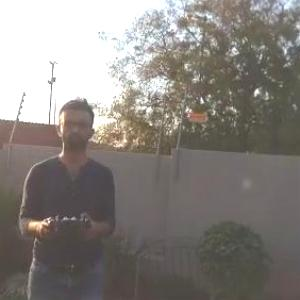follow: (16, 90, 123, 299)
